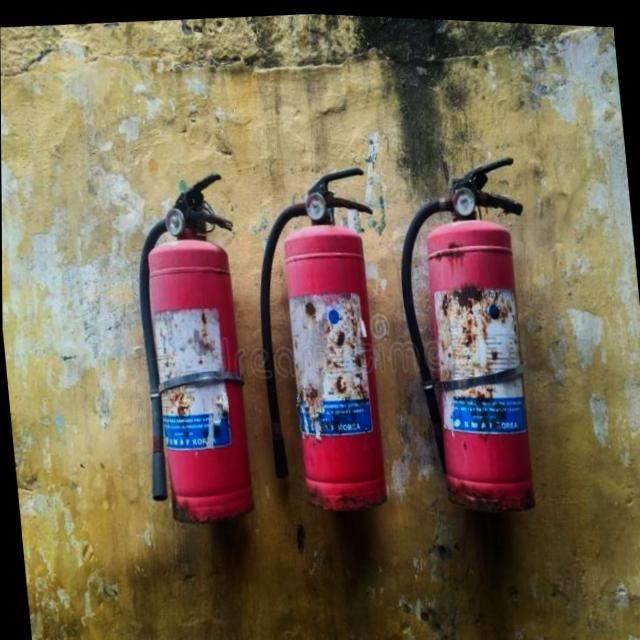FireExtinguisher: (386, 141, 554, 522), (241, 157, 405, 522), (116, 162, 265, 535)
